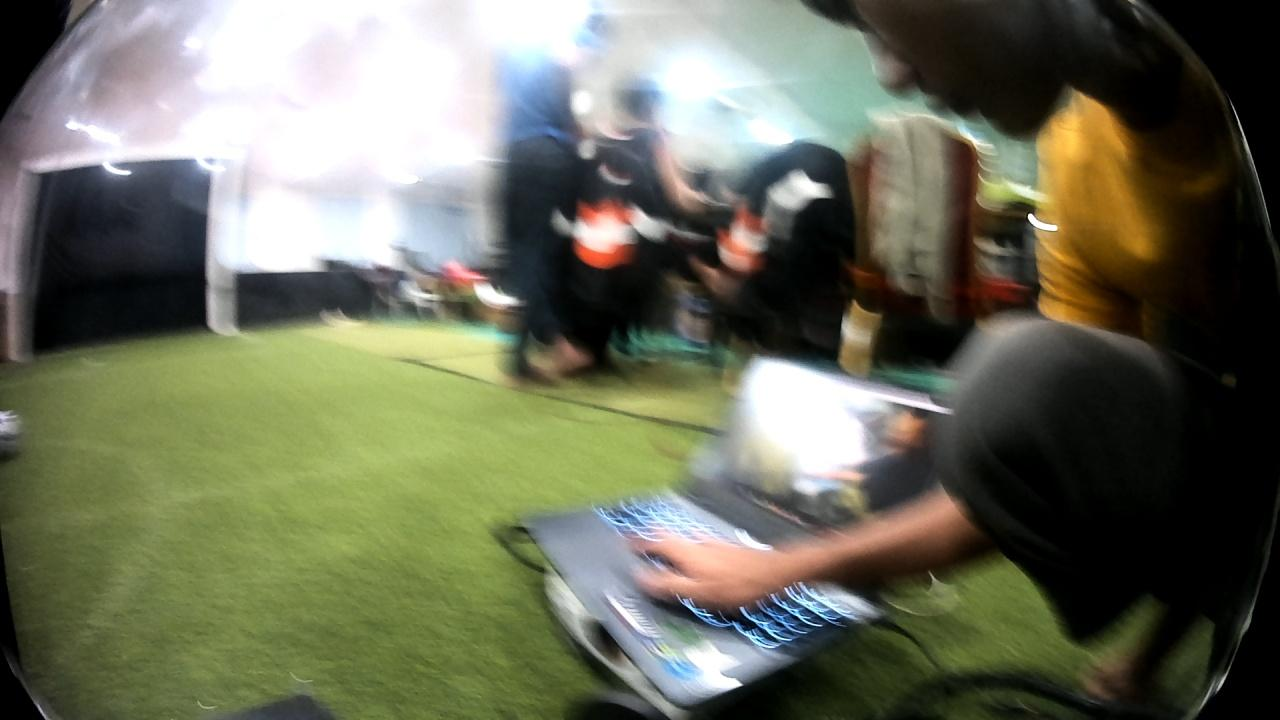ball: (0, 404, 30, 457)
